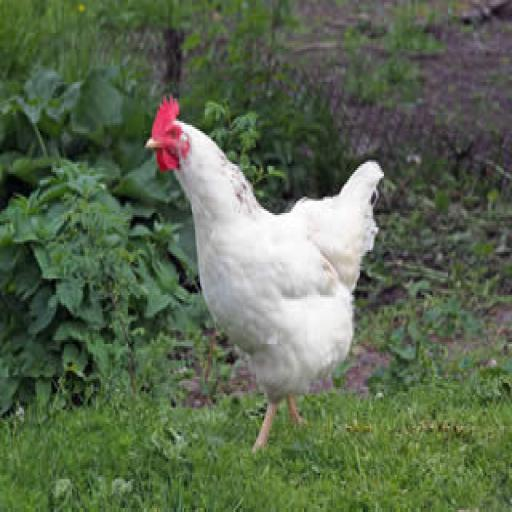healthy: (138, 83, 204, 203)
